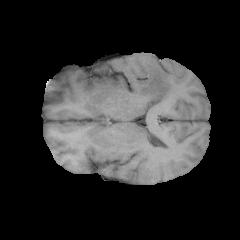glioma: (138, 63, 176, 105)
